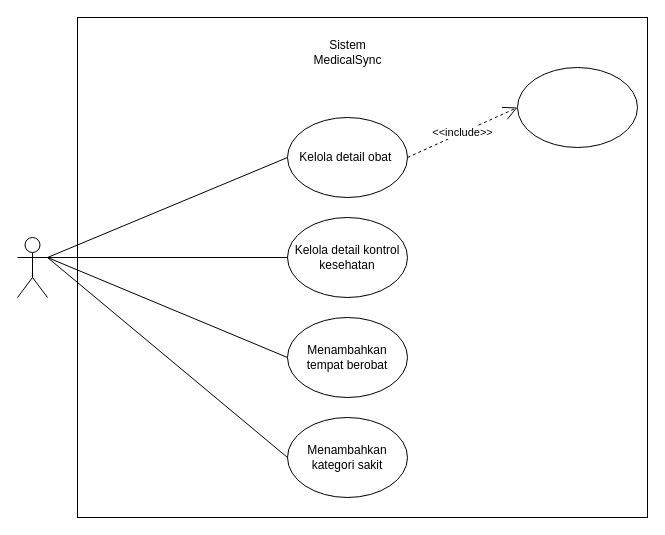
This 665x535 diagram has some shape labels left out. The shapes that lost their labels are listed below. From the top down, each one's box as (x1, y1, x2, y2) in pixels, then its label:
(516, 66, 638, 148): Notifikasi konsumsi obat
(16, 236, 48, 298): User
